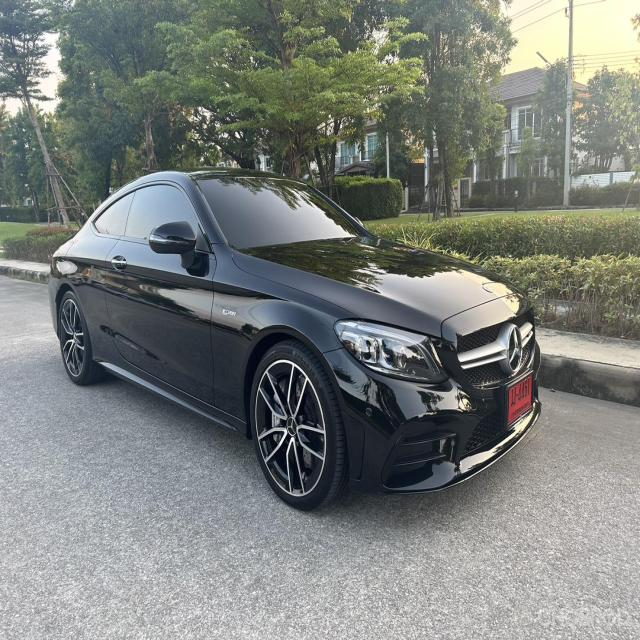license_plate: (502, 365, 537, 432)
